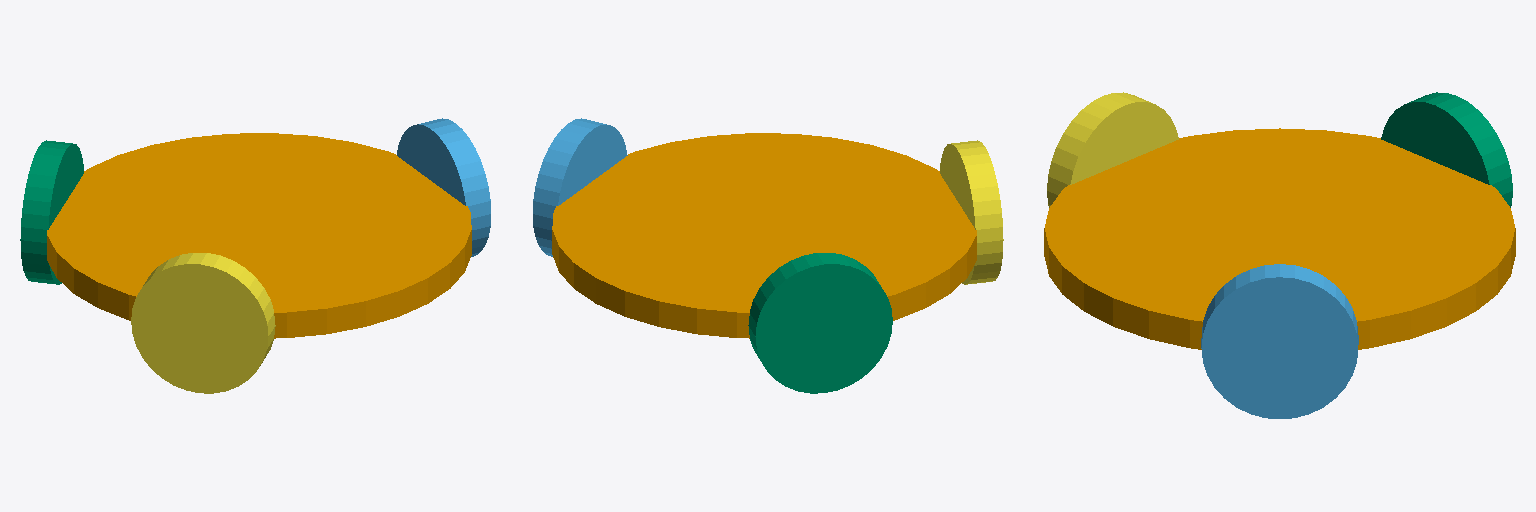
The robot description file, URDF, robot "omnidirectional_robot":
<robot name="omnidirectional_robot">
    <!-- ベースリンク -->
    <link name="base_link">
        <visual>
            <geometry>
                <cylinder radius="0.15" length="0.02" />
            </geometry>
            <material name="gray" />
        </visual>
        <collision>
            <geometry>
                <cylinder radius="0.15" length="0.02" />
            </geometry>
        </collision>
        <inertial>
            <mass value="5.0" />
            <inertia ixx="0.1" ixy="0" ixz="0" iyy="0.1" iyz="0" izz="0.2" />
        </inertial>
    </link>

    <!-- wheel -->
    <link name="wheel_1">
        <inertial>
            <mass value="2" />
            <inertia ixx="1e-3" ixy="0.0" ixz="0" iyy="1e-3" iyz="0" izz="1e-3" />
        </inertial>
        <visual>
            <geometry>
                <cylinder radius="0.05" length="0.02" />
            </geometry>
            <material name="white" />
        </visual>
        <collision>
            <geometry>
                <cylinder radius="0.05" length="0.02" />
            </geometry>
            <contact_coefficients mu="1" kp="1e+13" kd="1.0" />
        </collision>
    </link>
    <joint name="wheel_1_joint" type="continuous">
        <origin xyz="0.15 0 0.0" rpy="1.57 0.0 1.57" />
        <parent link="base_link" />
        <child link="wheel_1" />
        <axis xyz="0.0 0.0 1.0" />
    </joint>
    
    <link name="wheel_2">
        <inertial>
            <mass value="2" />
            <inertia ixx="1e-3" ixy="0.0" ixz="0" iyy="1e-3" iyz="0" izz="1e-3" />
        </inertial>
        <visual>
            <geometry>
                <cylinder radius="0.05" length="0.02" />
            </geometry>
            <material name="white" />
        </visual>
        <collision>
            <geometry>
                <cylinder radius="0.05" length="0.02" />
            </geometry>
            <contact_coefficients mu="1" kp="1e+13" kd="1.0" />
        </collision>
    </link>
    <joint name="wheel_2_joint" type="continuous">
        <origin xyz="-0.106 0.106 0" rpy="1.57 0.0 0.785398" />
        <parent link="base_link" />
        <child link="wheel_2" />
        <axis xyz="0.0 0.0 1.0" />
    </joint>

    <link name="wheel_3">
        <inertial>
            <mass value="2" />
            <inertia ixx="1e-3" ixy="0.0" ixz="0" iyy="1e-3" iyz="0" izz="1e-3" />
        </inertial>
        <visual>
            <geometry>
                <cylinder radius="0.05" length="0.02" />
            </geometry>
            <material name="white" />
        </visual>
        <collision>
            <geometry>
                <cylinder radius="0.05" length="0.02" />
            </geometry>
            <contact_coefficients mu="1" kp="1e+13" kd="1.0" />
        </collision>
    </link>
    <joint name="wheel_3_joint" type="continuous">
        <origin xyz="-0.106 -0.106 0" rpy="1.57 0.0 -0.785398" />
        <parent link="base_link" />
        <child link="wheel_3" />
        <axis xyz="0.0 0.0 1.0" />
    </joint>
</robot>

--- Facts derived from the render (not from the file) ---
Views: 3 orthographic renders of the robot side by side, from view 1: azimuth 30°, elevation 25°; view 2: azimuth 150°, elevation 25°; view 3: azimuth 270°, elevation 25°.
Model omnidirectional_robot with 4 links and 3 joints (3 continuous), rooted at base_link, posed all joints at 0.
Links seen in each view (by area): view 1: base_link, wheel_3, wheel_1, wheel_2; view 2: base_link, wheel_2, wheel_1, wheel_3; view 3: base_link, wheel_1, wheel_2, wheel_3.
Link boxes in pixels (x1,y1,x2,y2): base_link: (47, 133, 471, 338); wheel_3: (131, 253, 275, 393); wheel_1: (397, 118, 490, 256); wheel_2: (20, 140, 83, 284); base_link: (552, 133, 976, 338); wheel_2: (748, 253, 892, 393); wheel_1: (533, 118, 627, 256); wheel_3: (940, 140, 1003, 284); base_link: (1044, 128, 1515, 349); wheel_1: (1201, 264, 1358, 418); wheel_2: (1381, 92, 1512, 207); wheel_3: (1047, 92, 1178, 207).
Bounding box of the posed robot: 0.3101 × 0.3 × 0.1 m (x, y, z).
Geometry: primitives only (box / cylinder / sphere), no mesh files.